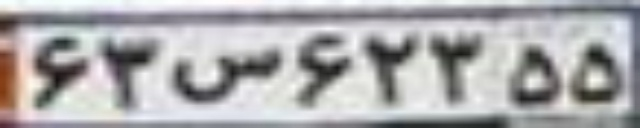2: (362, 29, 417, 104)
3: (97, 32, 161, 109), (425, 27, 486, 102)
5: (509, 41, 564, 103), (570, 41, 625, 103)
6: (28, 34, 90, 108), (292, 31, 353, 106)
sin: (171, 47, 281, 104)
